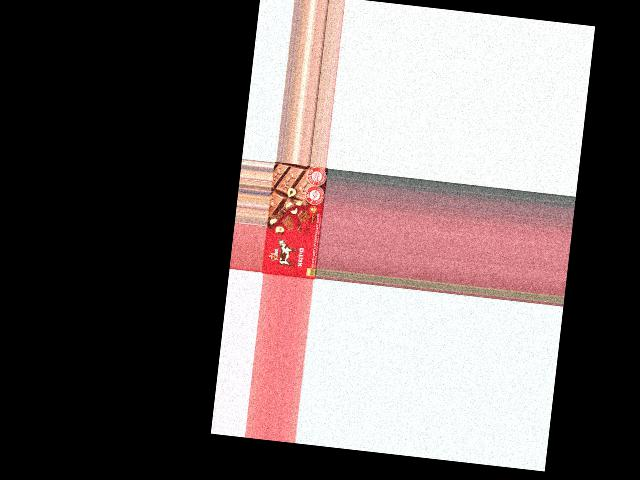chocolate: (262, 162, 326, 279)
